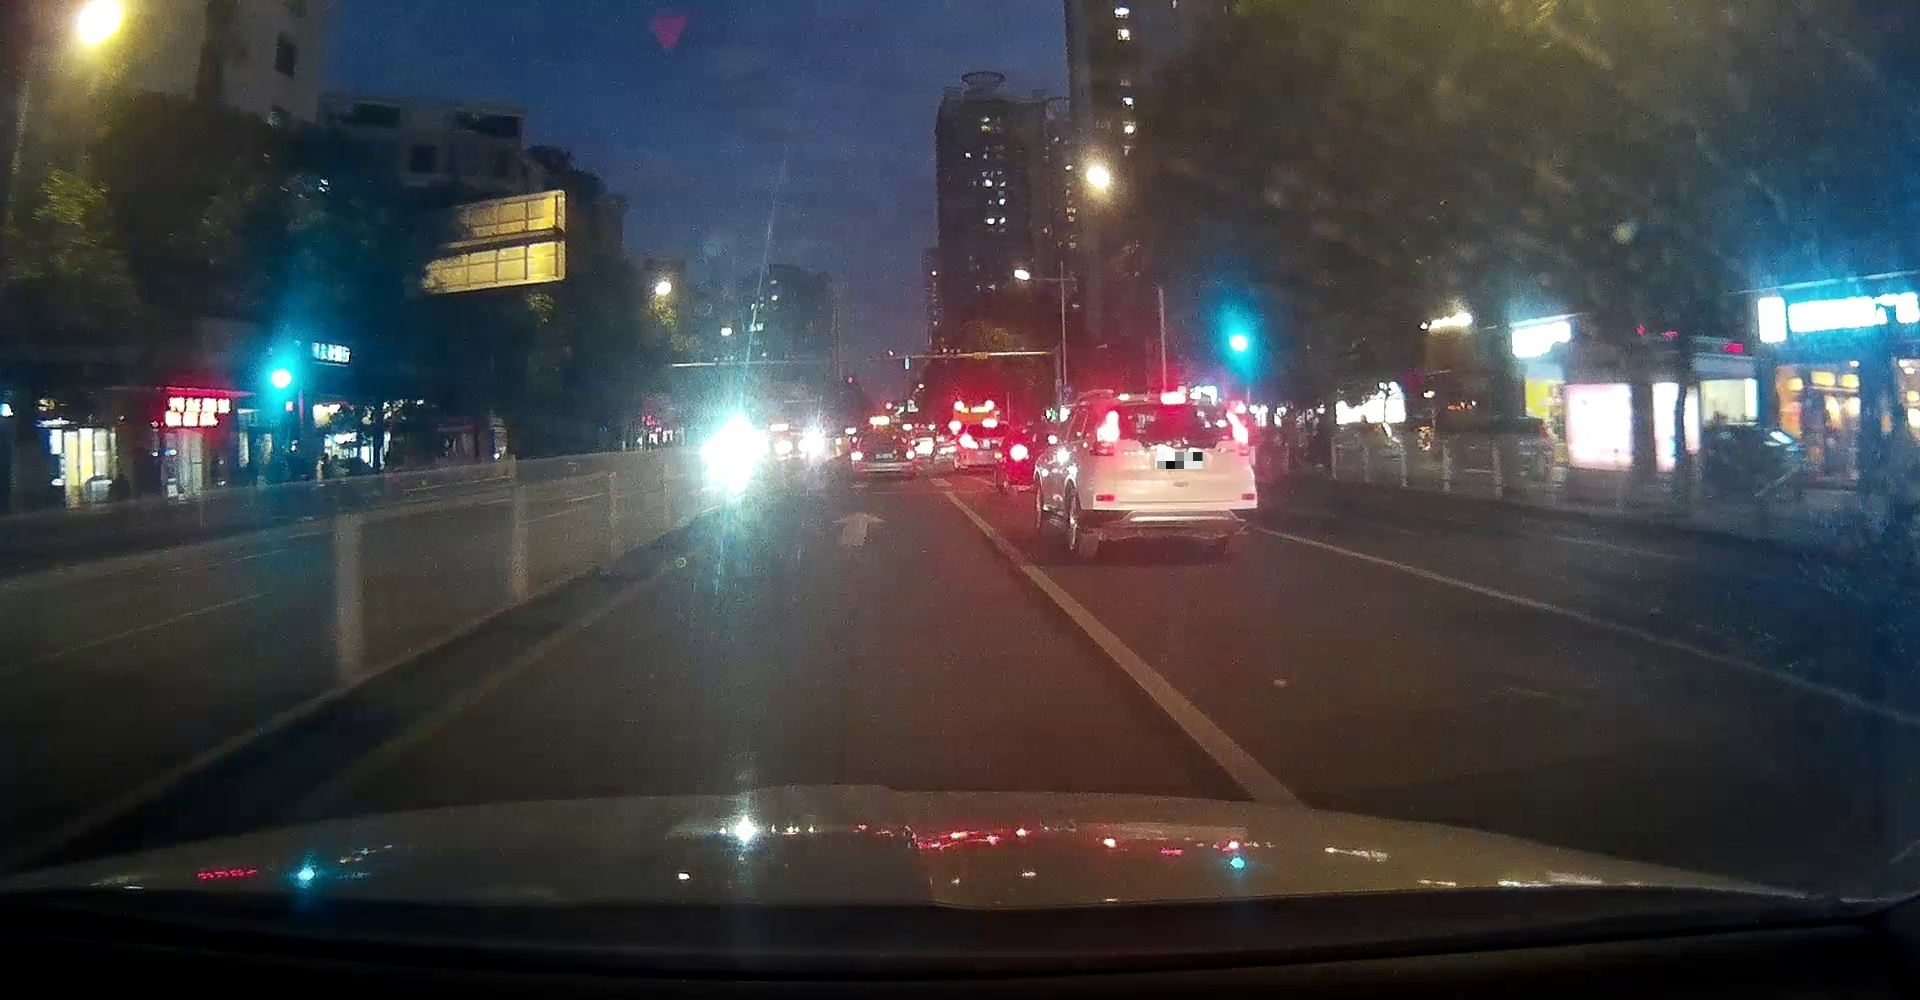L_light: (1090, 410, 1114, 456)
R_light: (1228, 410, 1250, 456)
T_light: (1159, 393, 1187, 405)
night-brake: (1076, 392, 1258, 555)
plate_1: (1157, 452, 1203, 470)
